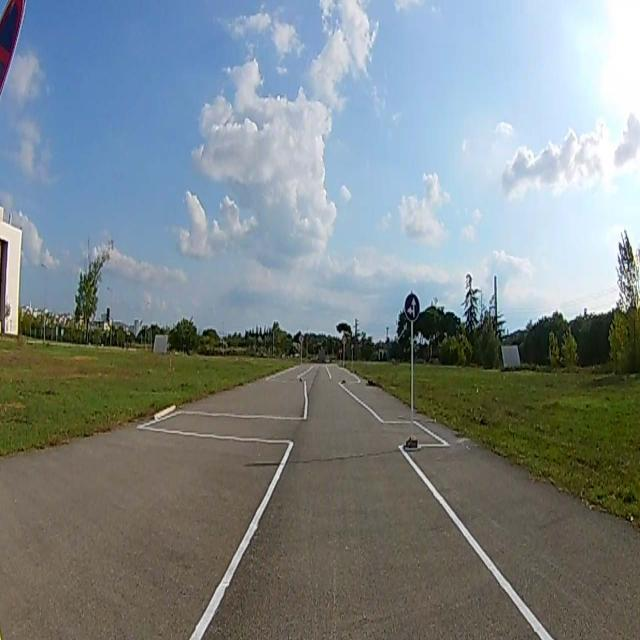ilerisol: (406, 291, 420, 318)
